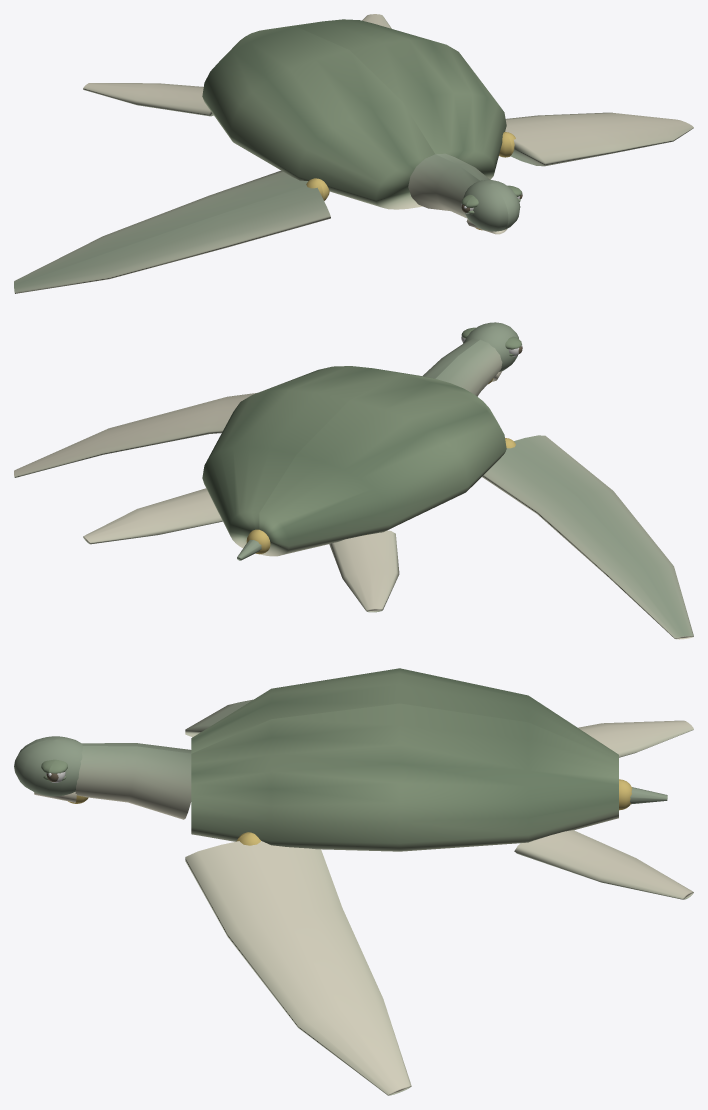
File: turtle.glb
The picture shows the model from 3 angles, top to bottom: view 1: azimuth 30°, elevation 25°; view 2: azimuth 150°, elevation 25°; view 3: azimuth 270°, elevation 25°; orthographic projection. The views are drawn at different scales.
Visible parts, largest first — view 1: Body, Flipper_FL, Flipper_FR, Head, Flipper_RL; view 2: Body, Flipper_FL, Flipper_FR, Head, Flipper_RL, Flipper_RR, Tail; view 3: Body, Flipper_FR, Head, Flipper_RR, Flipper_RL, Tail, Flipper_FL.
Boxes of the visible parts, box(x1,y1,x2,y2) form: Body: box(202, 19, 506, 209); Flipper_FL: box(14, 170, 330, 293); Flipper_FR: box(499, 112, 693, 166); Head: box(408, 153, 522, 231); Flipper_RL: box(83, 83, 213, 116); Body: box(202, 366, 506, 556); Flipper_FL: box(482, 435, 693, 639); Flipper_FR: box(14, 392, 257, 477); Head: box(422, 322, 522, 396); Flipper_RL: box(329, 530, 399, 612); Flipper_RR: box(83, 488, 222, 544); Tail: box(237, 529, 270, 560); Body: box(191, 668, 618, 851); Flipper_FR: box(185, 832, 411, 1095); Head: box(14, 736, 191, 819); Flipper_RR: box(514, 830, 693, 899); Flipper_RL: box(578, 720, 693, 757); Tail: box(619, 779, 667, 810); Flipper_FL: box(185, 699, 252, 737).
Bounding box in the file's own units: 2.74 × 0.6091 × 1.96.
